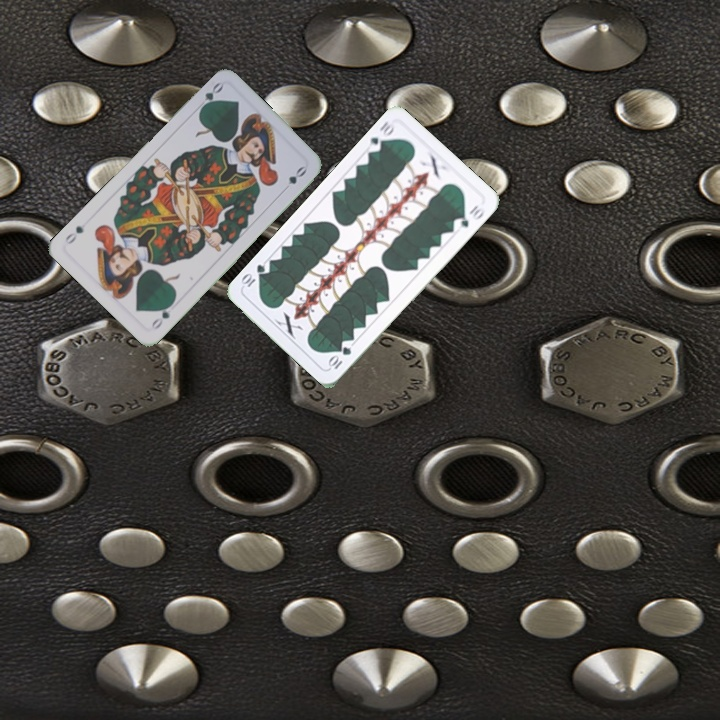G10: (363, 117, 398, 155), (324, 342, 354, 372)
GO: (192, 78, 226, 115), (147, 297, 177, 332)
